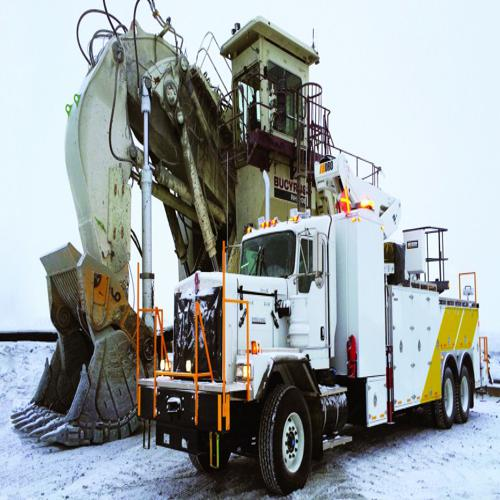con_eq: (15, 16, 346, 444)
